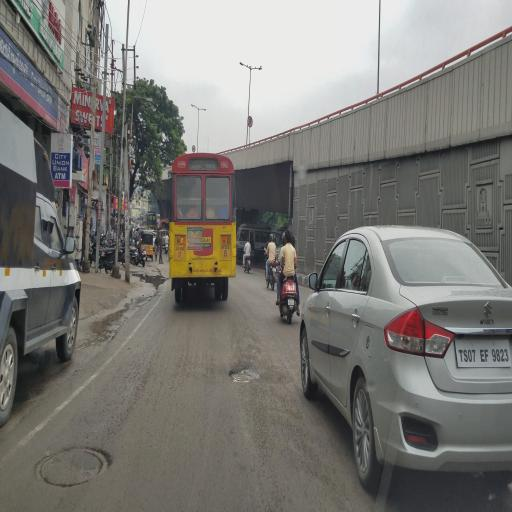street_light_0: (236, 49, 252, 79), (186, 96, 202, 122), (249, 56, 264, 77), (198, 98, 209, 120)
